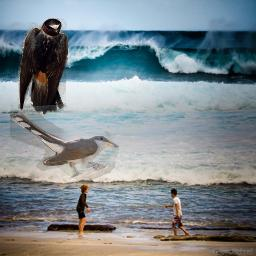Cuckoo: (10, 110, 119, 180)
Swallow: (18, 18, 68, 115)
